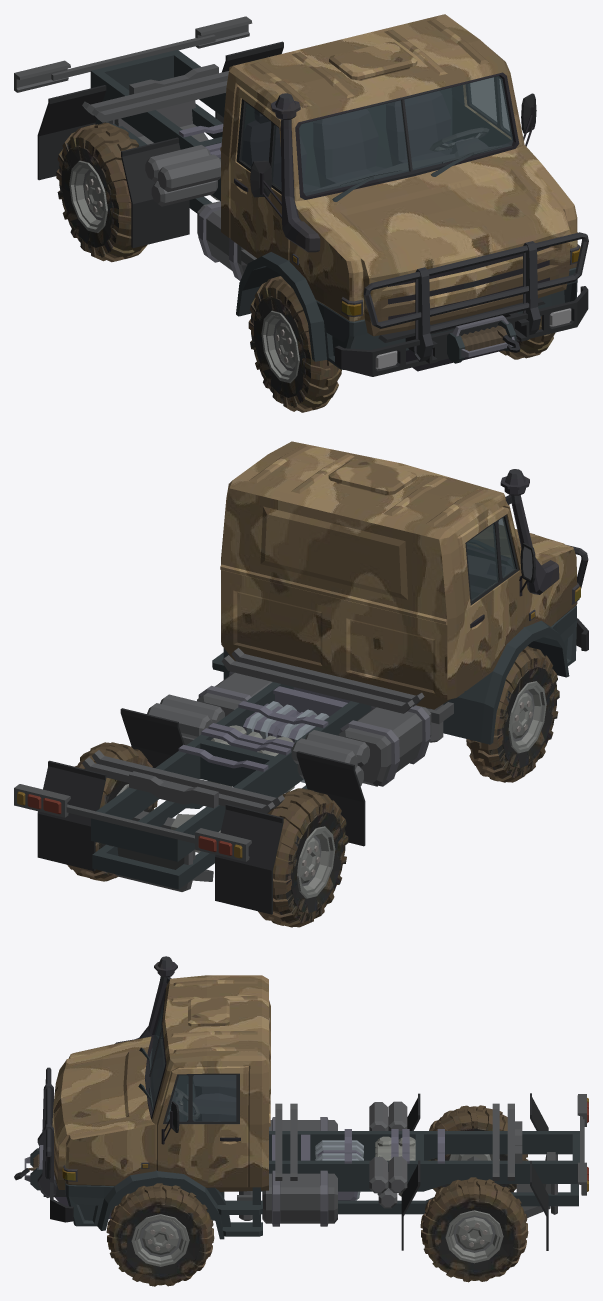
File: transport-truck.glb
3 views of the same model, one above another, from view 1: azimuth 30°, elevation 25°; view 2: azimuth 150°, elevation 25°; view 3: azimuth 270°, elevation 25° (orthographic). The views are drawn at different scales.
Visible parts, largest first — view 1: SM_Veh_Truck_01, SM_Veh_Truck_01_Glass, SM_Veh_Truck_01_Wheel_rr, SM_Veh_Truck_01_Wheel_fr, SM_Veh_Truck_01_Wheel_fl, SM_Veh_Truck_01_SteeringW; view 2: SM_Veh_Truck_01, SM_Veh_Truck_01_Wheel_rr, SM_Veh_Truck_01_Wheel_fr, SM_Veh_Truck_01_Glass, SM_Veh_Truck_01_Wheel_rl; view 3: SM_Veh_Truck_01, SM_Veh_Truck_01_Wheel_rl, SM_Veh_Truck_01_Wheel_fl, SM_Veh_Truck_01_Glass, SM_Veh_Truck_01_Wheel_rr.
Part boxes in pixels (x1,y1,x2,y2): SM_Veh_Truck_01: [14, 14, 588, 376]; SM_Veh_Truck_01_Glass: [240, 76, 513, 195]; SM_Veh_Truck_01_Wheel_rr: [56, 122, 147, 262]; SM_Veh_Truck_01_Wheel_fr: [248, 276, 341, 412]; SM_Veh_Truck_01_Wheel_fl: [499, 316, 555, 359]; SM_Veh_Truck_01_SteeringW: [429, 127, 489, 151]; SM_Veh_Truck_01: [14, 441, 588, 914]; SM_Veh_Truck_01_Wheel_rr: [258, 788, 348, 927]; SM_Veh_Truck_01_Wheel_fr: [466, 646, 559, 782]; SM_Veh_Truck_01_Glass: [466, 517, 515, 600]; SM_Veh_Truck_01_Wheel_rl: [67, 742, 157, 881]; SM_Veh_Truck_01: [14, 956, 588, 1250]; SM_Veh_Truck_01_Wheel_rl: [420, 1177, 528, 1282]; SM_Veh_Truck_01_Wheel_fl: [106, 1183, 214, 1286]; SM_Veh_Truck_01_Glass: [150, 1001, 236, 1121]; SM_Veh_Truck_01_Wheel_rr: [428, 1105, 528, 1192].
Size of the model in its own units: 3.05 by 3.15 by 6.83.
Materials: 2 (1 with a texture image).
